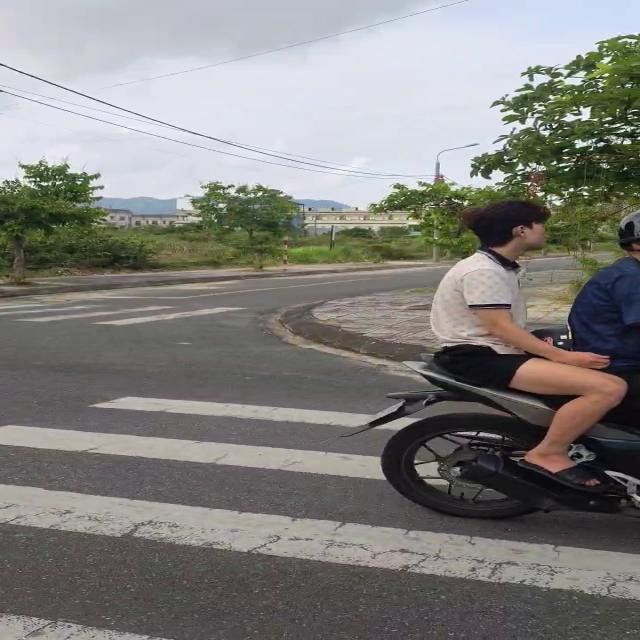no_helmet: (461, 200, 549, 246)
